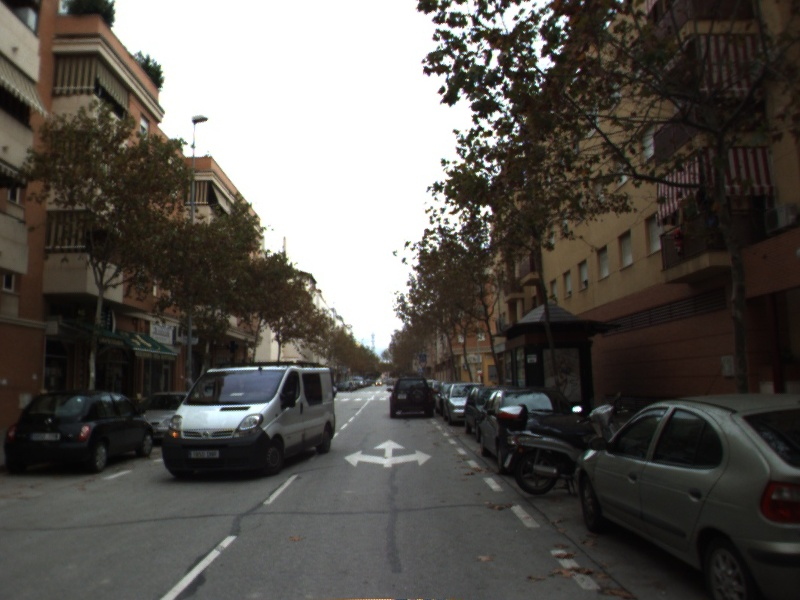STRAIGHT_LEFT_RIGHT: (342, 438, 435, 470)
